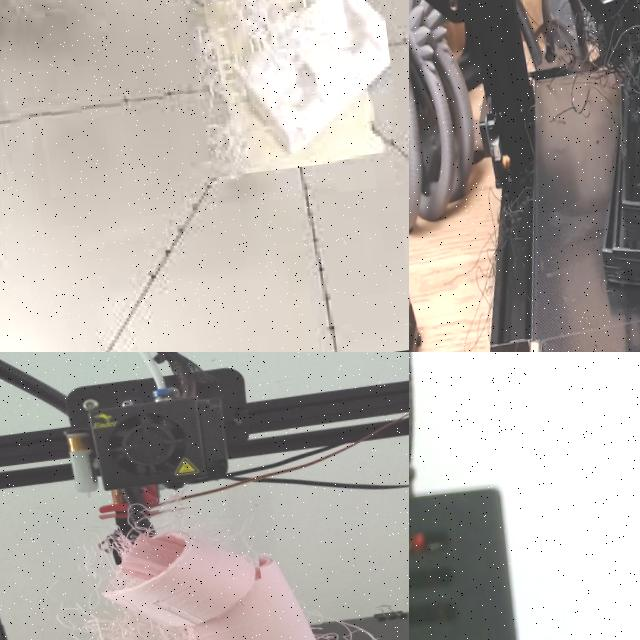spaghetti: (177, 0, 390, 176), (58, 510, 259, 640)
